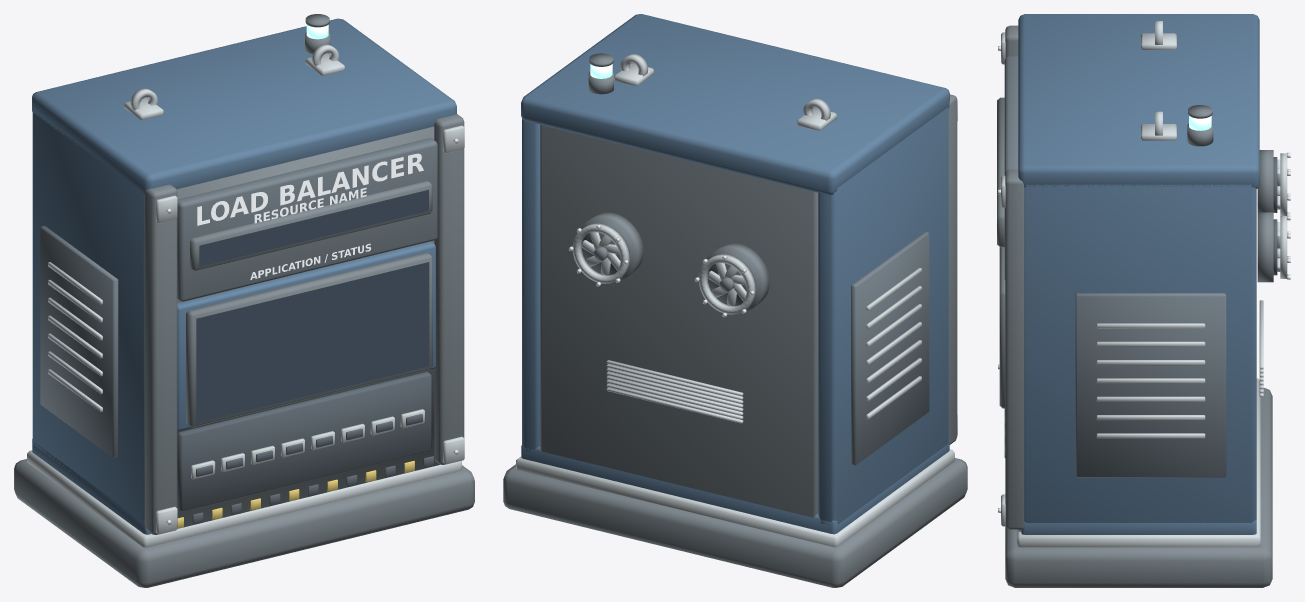
Rendered from load_balancer_enhanced.glb.
3 views of the same model, side by side, from view 1: azimuth 30°, elevation 25°; view 2: azimuth 150°, elevation 25°; view 3: azimuth 270°, elevation 25° (orthographic). The views are drawn at different scales.
Visible parts, largest first — view 1: Roof_navy, LiveViewSurface_glass, SideWall_navy, CornerPost_frame, Skid_frame, PatchPanel_black, FrontHeader_graphite, SideServicePanel_graphite, SealFront_frame, SkidDeck_steel, LiveViewSurfaceFrame_frame, ResourceNameSurface_glass (+14 smaller); view 2: BackWall_frame, Roof_navy, SideWall_navy, Skid_frame, SideServicePanel_graphite, SkidDeck_steel, KickPlate_navy, RearFan_steel, RearVent_steel, CornerPost_frame, RearFan_frame, SideLouver_steel (+3 smaller); view 3: SideWall_navy, Roof_navy, SideServicePanel_graphite, Skid_frame, CornerPost_frame, SideLouver_steel, SkidDeck_steel, KickPlate_navy, RearFan_frame, FrontHeader_graphite, RearFan_steel, LiveViewSurfaceFrame_frame (+7 smaller).
Part boxes in pixels (left/top/right/bottom): Roof_navy: left=32, top=18, right=456, bottom=194; LiveViewSurface_glass: left=196, top=262, right=429, bottom=422; SideWall_navy: left=32, top=112, right=144, bottom=521; CornerPost_frame: left=144, top=114, right=464, bottom=534; Skid_frame: left=14, top=459, right=474, bottom=587; PatchPanel_black: left=177, top=372, right=431, bottom=511; FrontHeader_graphite: left=177, top=138, right=437, bottom=301; SideServicePanel_graphite: left=40, top=226, right=118, bottom=457; SealFront_frame: left=176, top=126, right=439, bottom=527; SkidDeck_steel: left=27, top=450, right=461, bottom=547; LiveViewSurfaceFrame_frame: left=186, top=252, right=432, bottom=427; ResourceNameSurface_glass: left=199, top=189, right=428, bottom=266; BackWall_frame: left=540, top=125, right=818, bottom=517; Roof_navy: left=521, top=14, right=949, bottom=195; SideWall_navy: left=522, top=107, right=948, bottom=525; Skid_frame: left=503, top=458, right=967, bottom=587; SideServicePanel_graphite: left=851, top=231, right=929, bottom=465; SkidDeck_steel: left=516, top=449, right=954, bottom=547; KickPlate_navy: left=521, top=438, right=949, bottom=534; RearFan_steel: left=572, top=223, right=755, bottom=314; RearVent_steel: left=606, top=360, right=743, bottom=423; CornerPost_frame: left=948, top=94, right=957, bottom=444; RearFan_frame: left=581, top=212, right=769, bottom=312; SideLouver_steel: left=866, top=268, right=921, bottom=419; SideWall_navy: left=1024, top=184, right=1256, bottom=525; Roof_navy: left=1018, top=14, right=1259, bottom=188; SideServicePanel_graphite: left=1075, top=293, right=1226, bottom=477; Skid_frame: left=1005, top=388, right=1272, bottom=587; CornerPost_frame: left=1005, top=25, right=1024, bottom=529; SideLouver_steel: left=1096, top=323, right=1205, bottom=438; SkidDeck_steel: left=1017, top=378, right=1260, bottom=547; KickPlate_navy: left=1021, top=520, right=1256, bottom=534; RearFan_frame: left=1257, top=150, right=1273, bottom=282; FrontHeader_graphite: left=1004, top=56, right=1018, bottom=280; RearFan_steel: left=1277, top=153, right=1287, bottom=278; LiveViewSurfaceFrame_frame: left=999, top=247, right=1005, bottom=408.
Size of the model in its own units: 2 by 2.48 by 1.47.
